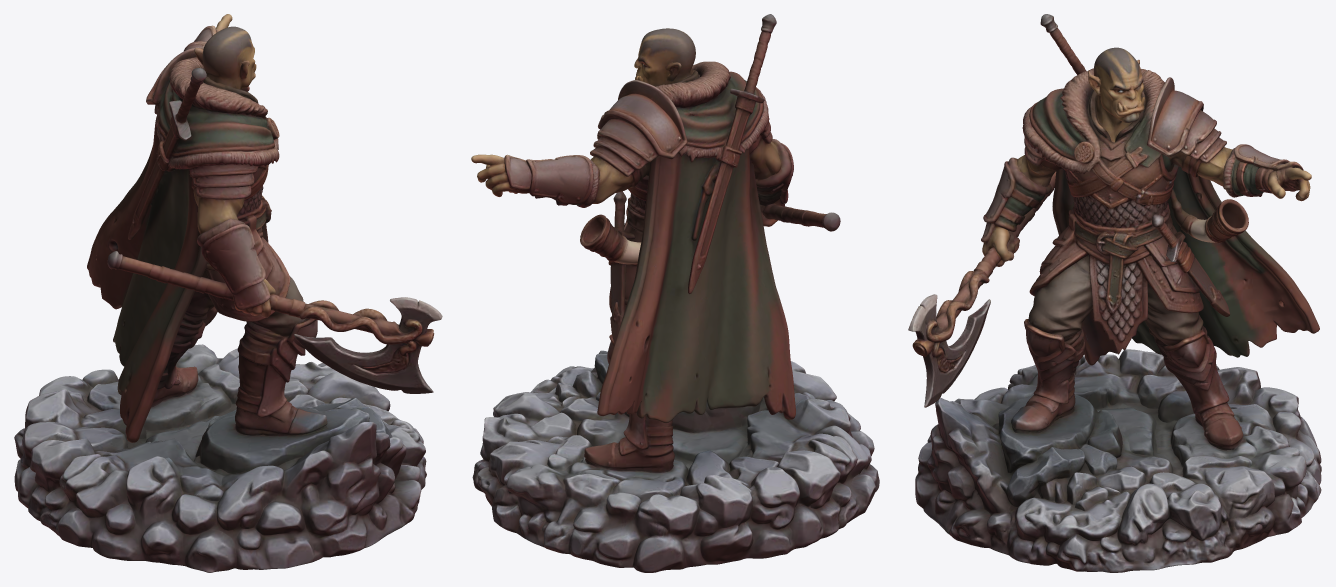
Rendered from inspiration-422.glb.
The picture shows the model from 3 angles, left to right: view 1: azimuth 30°, elevation 25°; view 2: azimuth 150°, elevation 25°; view 3: azimuth 270°, elevation 25°; orthographic projection. The views are drawn at different scales.
Visible parts, largest first — view 1: tripo_node_a65eeed6-d244-49b7-96a1-db2c796b288f; view 2: tripo_node_a65eeed6-d244-49b7-96a1-db2c796b288f; view 3: tripo_node_a65eeed6-d244-49b7-96a1-db2c796b288f.
Boxes of the visible parts, x1,y1,x2,y2 form: tripo_node_a65eeed6-d244-49b7-96a1-db2c796b288f: (14,14,442,572); tripo_node_a65eeed6-d244-49b7-96a1-db2c796b288f: (471,14,879,572); tripo_node_a65eeed6-d244-49b7-96a1-db2c796b288f: (908,14,1321,572).
Bounding box in the file's own units: 0.8256 × 1 × 0.8391.
1 material, 1 textured.
